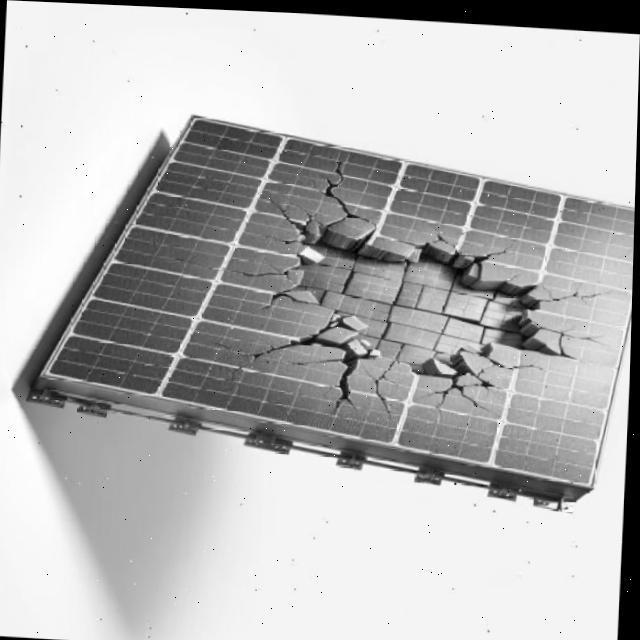Anomaly Solar Panel: (48, 96, 636, 479)
Structural Damage: (271, 208, 576, 395), (304, 150, 379, 240), (215, 316, 303, 384), (171, 245, 287, 280), (416, 370, 507, 409), (539, 317, 614, 355), (539, 272, 615, 302), (372, 356, 407, 413), (487, 345, 548, 372), (420, 215, 465, 247), (472, 231, 521, 259), (335, 354, 361, 406), (256, 285, 286, 316), (298, 194, 325, 226), (269, 193, 294, 218), (261, 228, 302, 241), (286, 353, 345, 361)
